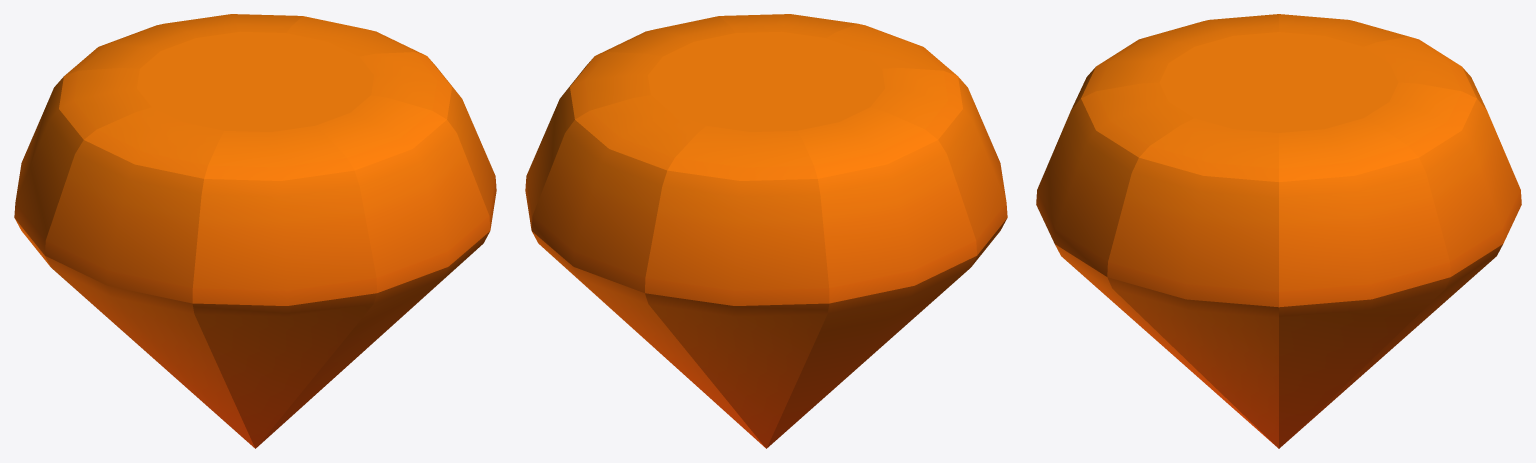
File: Gem_V3_01.fbx
3 views of the same model, side by side, from view 1: azimuth 30°, elevation 25°; view 2: azimuth 150°, elevation 25°; view 3: azimuth 270°, elevation 25° (orthographic).
Visible parts, largest first — view 1: Gem_V3_01; view 2: Gem_V3_01; view 3: Gem_V3_01.
Part boxes in pixels (x1,y1,x2,y2): Gem_V3_01: [14, 14, 496, 448]; Gem_V3_01: [525, 14, 1007, 448]; Gem_V3_01: [1036, 14, 1521, 448].
Bounding box in the file's own units: 45.66 × 38.01 × 45.66.
